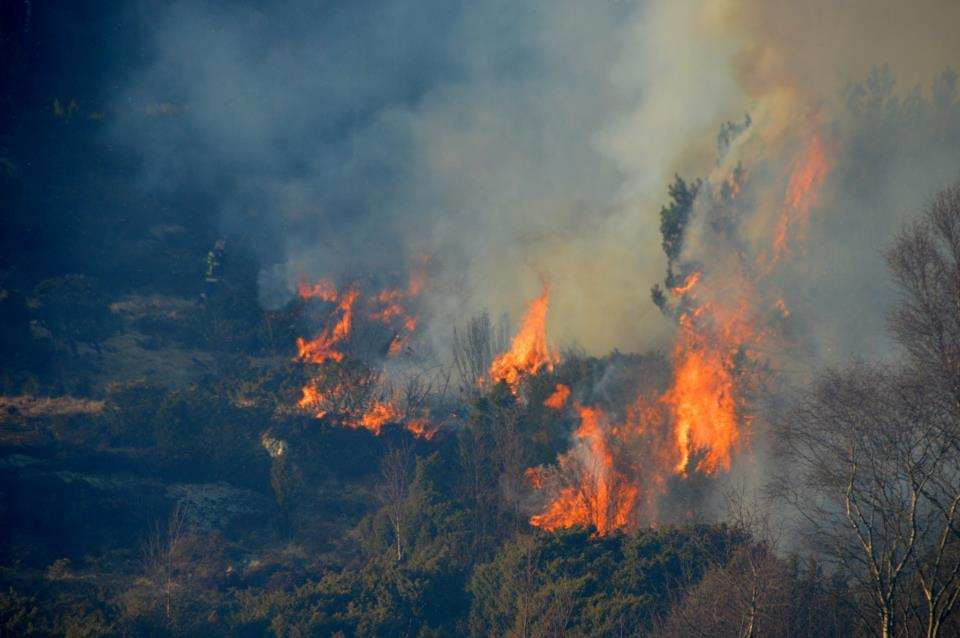smoke: (627, 18, 894, 580)
